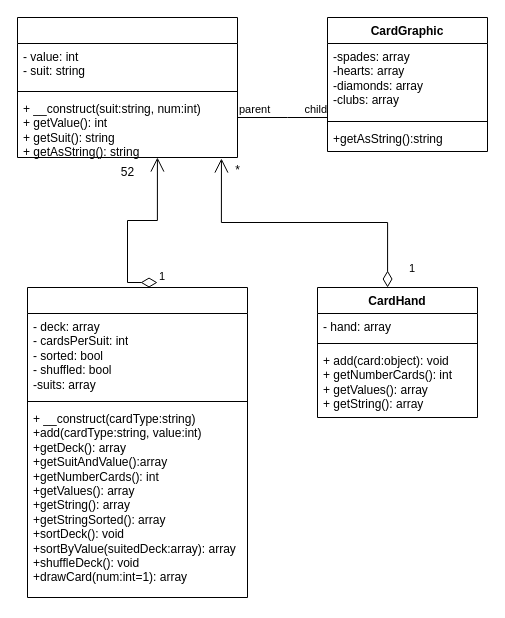
Some shapes in this 505 by 618 pixel diagram are drawn without their labels. Here are the shapes that lost their labels. From the top down, the box of each, then its label:
(16, 16, 238, 158): Card
(26, 286, 248, 598): DeckOfCards
